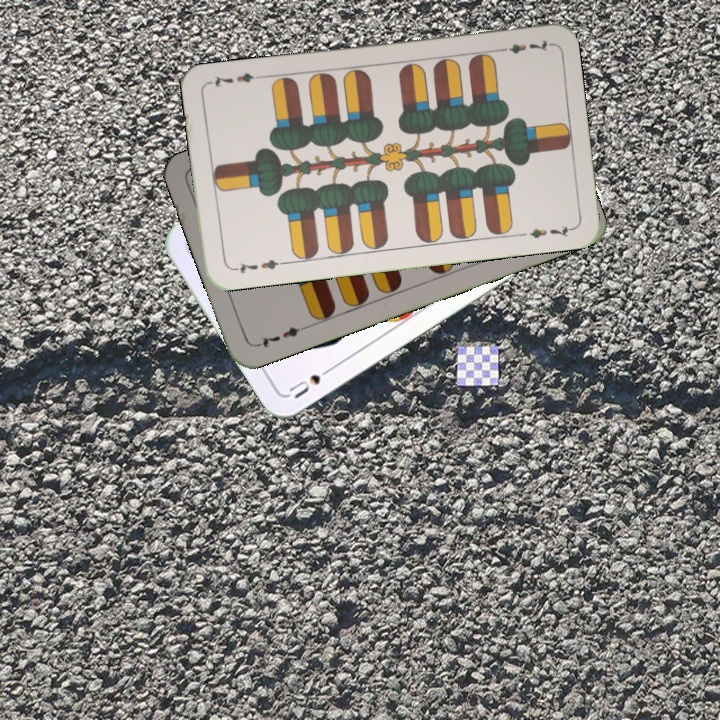E7: (252, 322, 309, 350), (493, 36, 553, 57), (227, 255, 286, 276)
SU: (285, 361, 338, 401)
